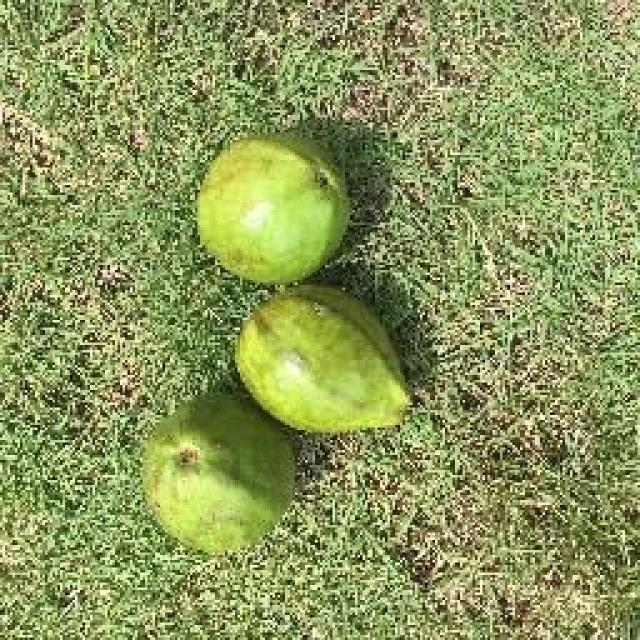Good_Guava: (232, 288, 412, 435), (195, 135, 350, 288)
